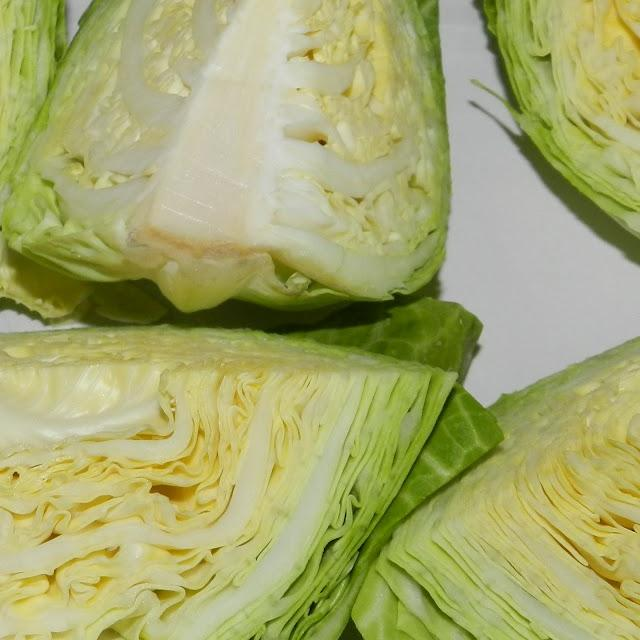cabbage: (0, 299, 501, 640), (0, 0, 453, 330)
